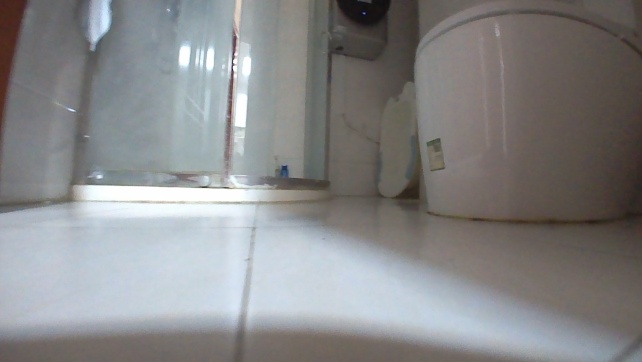toilet: (408, 0, 641, 227)
